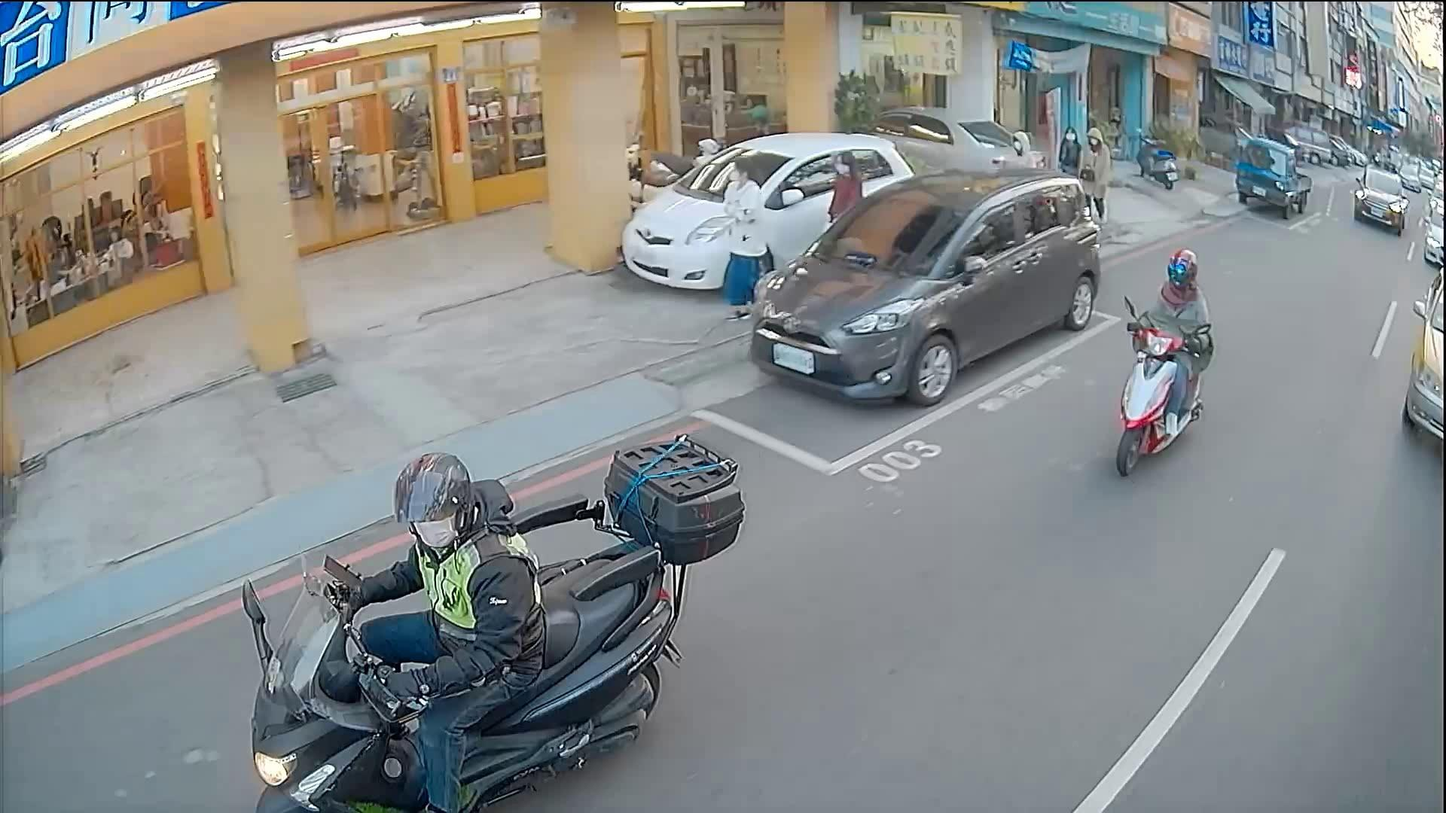person: (308, 433, 540, 812), (1121, 249, 1213, 443), (711, 149, 778, 320), (821, 147, 868, 226), (1074, 125, 1109, 229), (994, 126, 1043, 169), (1053, 120, 1084, 178)
